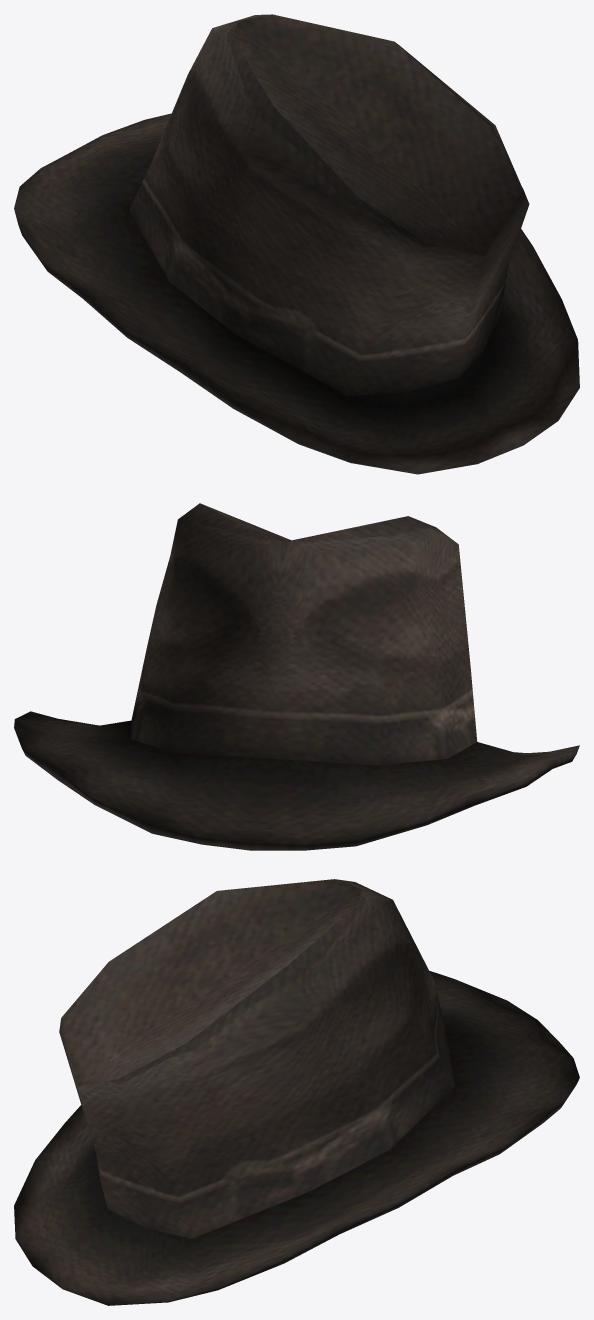
File: static.ico.obj
The picture shows the model from 3 angles, top to bottom: view 1: azimuth 30°, elevation 25°; view 2: azimuth 150°, elevation 25°; view 3: azimuth 270°, elevation 25°; orthographic projection. The views are drawn at different scales.
Bounding box in the file's own units: 3.47 × 2.37 × 3.76.
1 material, 1 textured.
